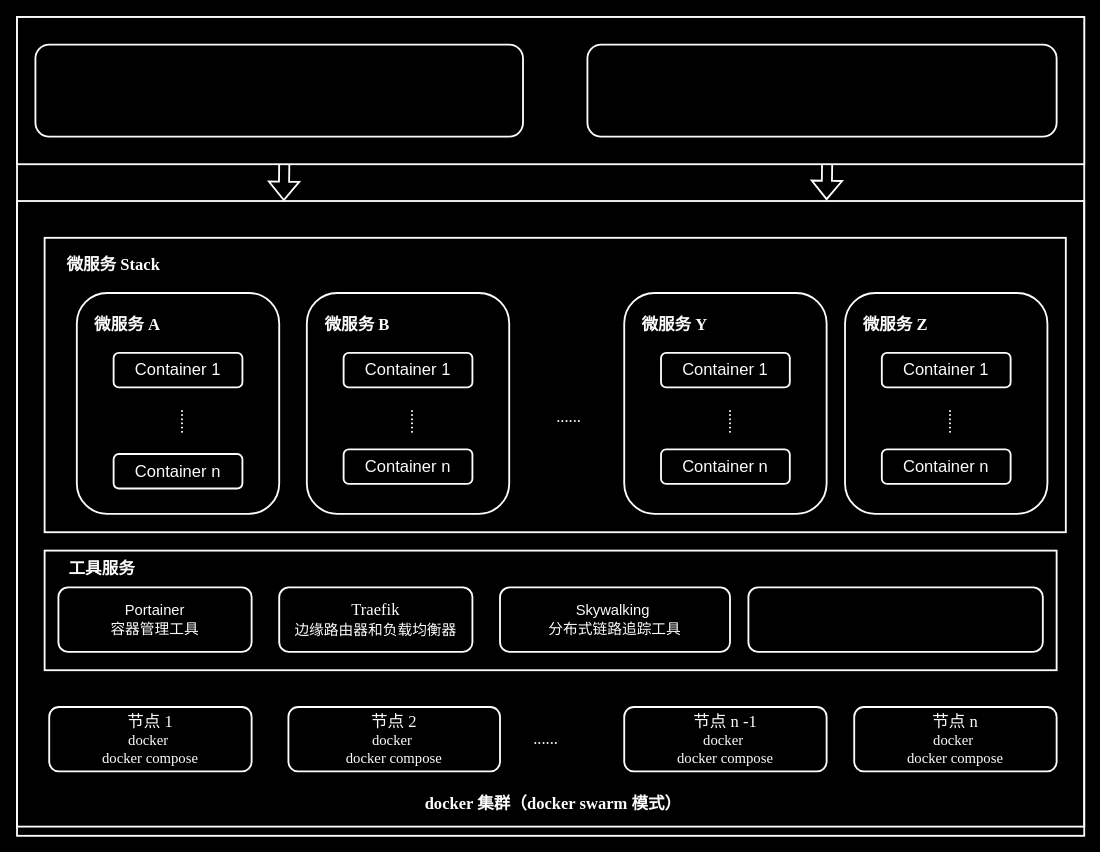
Image size: 1100x852. Some labels were removed from this diagram. Here are the shapes that lost their labels. From the top down, the box of each, then its label:
(34, 43, 523, 137): Jenkins 持续集成/持续部署工具
(586, 43, 1057, 137): Harbor 私有镜像仓库
(747, 586, 1043, 652): c A dvisor + Redis + Prometheus + Grafana 容器与宿主机监控工具
